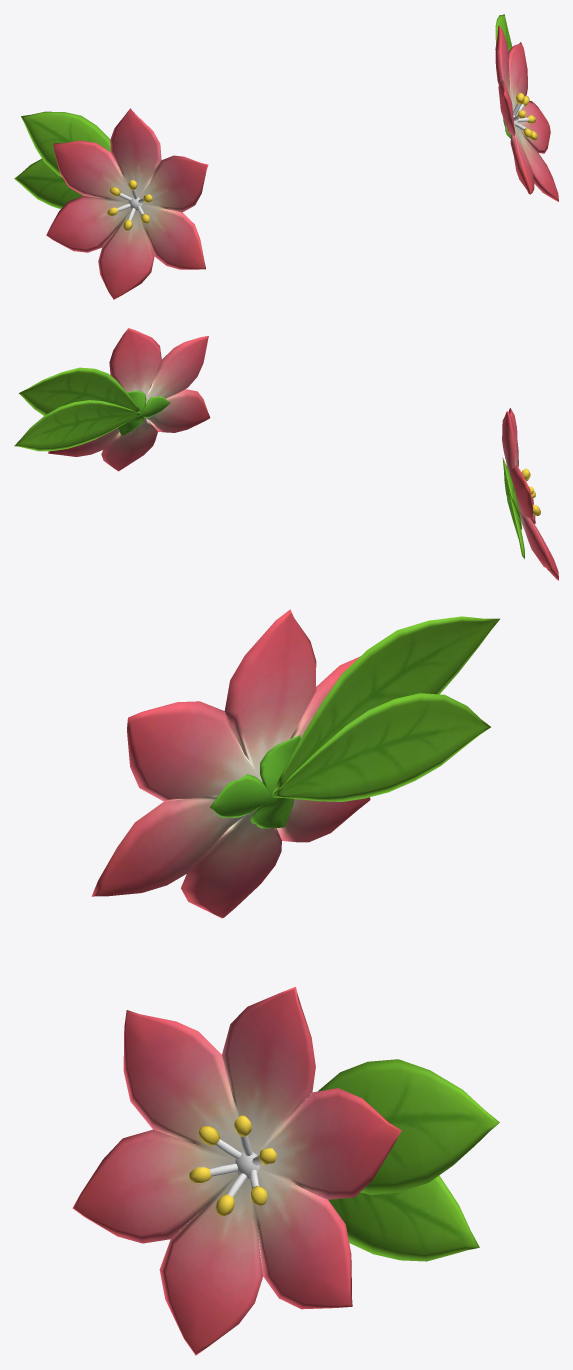
Rendered from pm0025_00_Rig.fbx.
The picture shows the model from 3 angles, top to bottom: view 1: azimuth 30°, elevation 25°; view 2: azimuth 150°, elevation 25°; view 3: azimuth 270°, elevation 25°; orthographic projection. The views are drawn at different scales.
Parts seen in each view (by area): view 1: doodad_gofest_2022_flower (1), doodad_gofest_2022_flower; view 2: doodad_gofest_2022_flower, doodad_gofest_2022_flower (1); view 3: doodad_gofest_2022_flower, doodad_gofest_2022_flower (1).
Part boxes in pixels (box(x1,y1,x2,y2)): doodad_gofest_2022_flower (1): box(14, 108, 208, 299); doodad_gofest_2022_flower: box(495, 14, 558, 201); doodad_gofest_2022_flower: box(14, 328, 210, 471); doodad_gofest_2022_flower (1): box(502, 408, 558, 580); doodad_gofest_2022_flower: box(72, 987, 499, 1355); doodad_gofest_2022_flower (1): box(91, 609, 499, 918).
Size of the model in its own units: 0.2297 by 0.0767 by 0.0848.
1 material, 1 textured.
